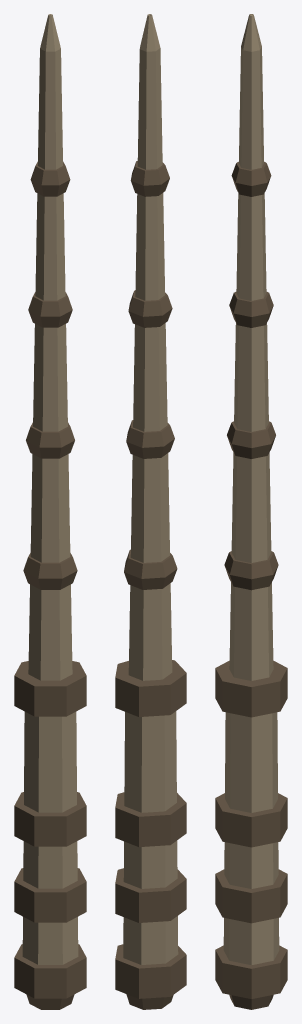
Rendered from ElderWand.obj.
3 renders of one model, left to right at view 1: azimuth 90°, elevation 25°; view 2: azimuth 150°, elevation 25°; view 3: azimuth 270°, elevation 25°, orthographic.
Parts seen in each view (by area): view 1: ElderWand; view 2: ElderWand; view 3: ElderWand.
Boxes of the visible parts, <box> form: ElderWand: <box>14,14,86,1009</box>; ElderWand: <box>115,14,186,1009</box>; ElderWand: <box>215,14,287,1009</box>.
Bounding box in the file's own units: 0.0295 × 0.455 × 0.0302.
